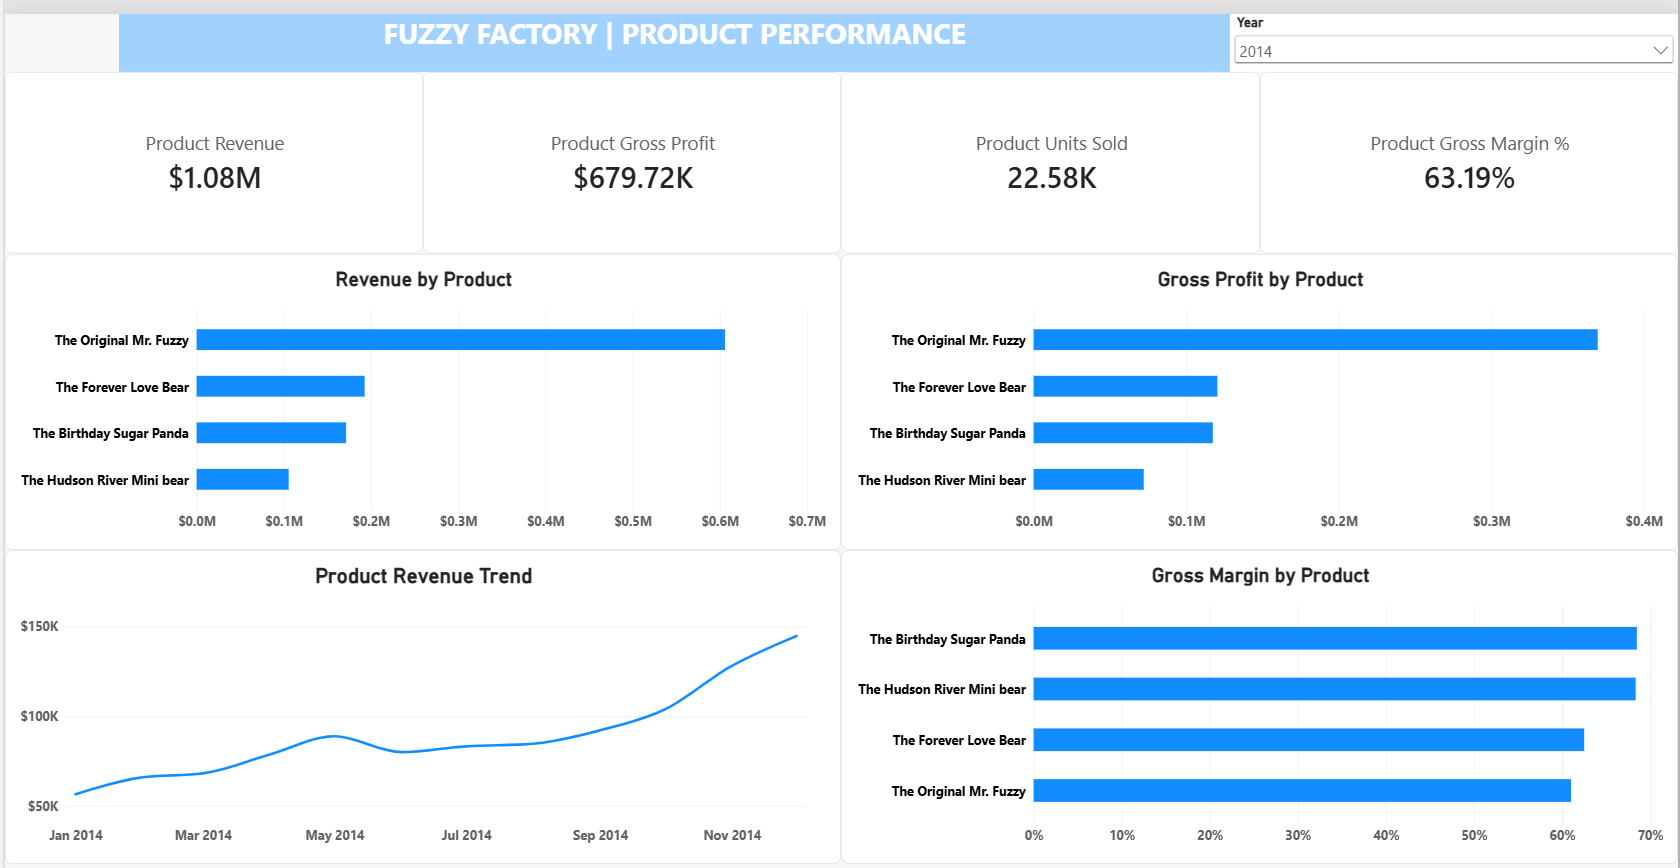

This screenshot's page, from the dashboard's own definition file:
{"tool":"powerbi","page":{"name":"Product Performance","canvas":[1920,1080],"ordinal":2},"visuals":[{"type":"textbox","box":[130.9,0,1274.6,66.6],"z":0},{"type":"cardVisual","fields":{"Data":["Product Performance.Product Revenue"]},"box":[0,66.6,480,209],"z":1000},{"type":"cardVisual","fields":{"Data":["Product Performance.Product Gross Profit"]},"box":[480,66.6,480,209],"z":2000},{"type":"cardVisual","fields":{"Data":["Product Performance.Product Units Sold"]},"box":[960,66.6,480,209],"z":2001},{"type":"cardVisual","fields":{"Data":["Product Performance.Product Gross Margin %"]},"box":[1440,66.6,480,209],"z":2002},{"type":"clusteredBarChart","title":"Revenue by Product ","fields":{"Category":["Product Performance.product_name"],"Y":["Product Performance.Product Revenue"]},"box":[0,275.6,960,339.9],"z":2003},{"type":"clusteredBarChart","title":"Gross Profit by Product ","fields":{"Category":["Product Performance.product_name"],"Y":["Product Performance.Product Gross Profit"]},"box":[960,275.6,960,339.9],"z":2004},{"type":"lineChart","title":"Product Revenue Trend","fields":{"Category":["Dim_Date.Date"],"Y":["Product Performance.Product Revenue"]},"box":[0,615.5,960,360.6],"z":2005},{"type":"clusteredBarChart","title":"Gross Margin by Product ","fields":{"Category":["Product Performance.product_name"],"Y":["Product Performance.Product Gross Margin %"]},"box":[960,615.5,960,360.6],"z":2006},{"type":"slicer","fields":{"Values":["Dim_Date.Year"]},"box":[1405.6,0,514.4,66.6],"z":2007}]}

Visuals, with their boxes on the page's 1920x1080 design canvas (x1, y1, x2, y2). These are canvas units, not pixel positions in the 1680x868 screenshot, which may show the page scaled, cropped or inside an application window:
textbox: detection(131, 0, 1406, 67)
cardVisual - Product Performance.Product Revenue: detection(0, 67, 480, 276)
cardVisual - Product Performance.Product Gross Profit: detection(480, 67, 960, 276)
cardVisual - Product Performance.Product Units Sold: detection(960, 67, 1440, 276)
cardVisual - Product Performance.Product Gross Margin %: detection(1440, 67, 1920, 276)
"Revenue by Product " clusteredBarChart: detection(0, 276, 960, 616)
"Gross Profit by Product " clusteredBarChart: detection(960, 276, 1920, 616)
"Product Revenue Trend" lineChart: detection(0, 616, 960, 976)
"Gross Margin by Product " clusteredBarChart: detection(960, 616, 1920, 976)
slicer - Dim_Date.Year: detection(1406, 0, 1920, 67)
